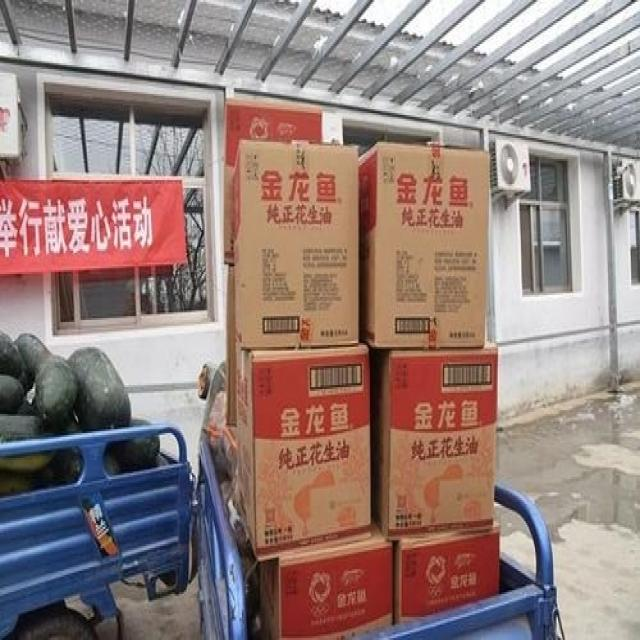box: (234, 345, 371, 560), (358, 140, 489, 347), (232, 140, 360, 349), (375, 341, 499, 540), (257, 519, 393, 640), (221, 100, 321, 264), (393, 519, 500, 623)
